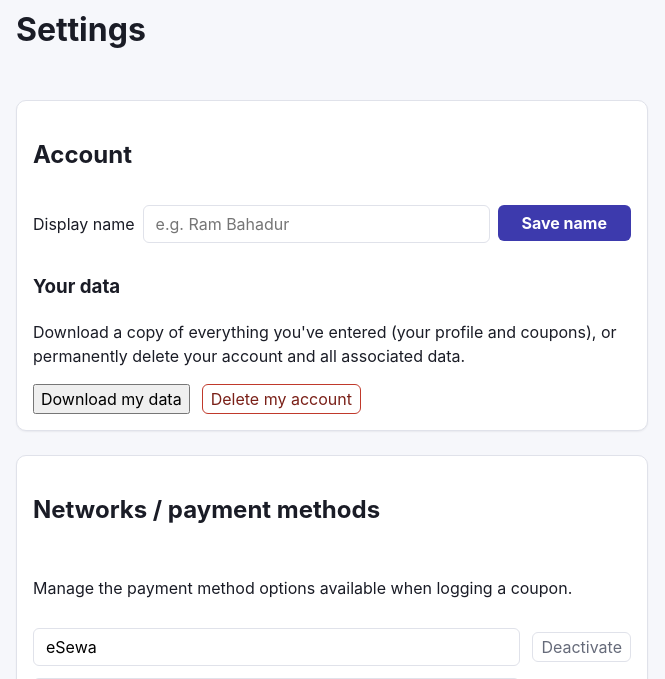
Scenario: Settings page › saves a display name via the Account section
Expected: the 1st field showing "eSewa" is shown, [33,628,520,666]
In the field labelled "Display name": (316, 224) [143,205,490,243], type "Ram Bahadur"
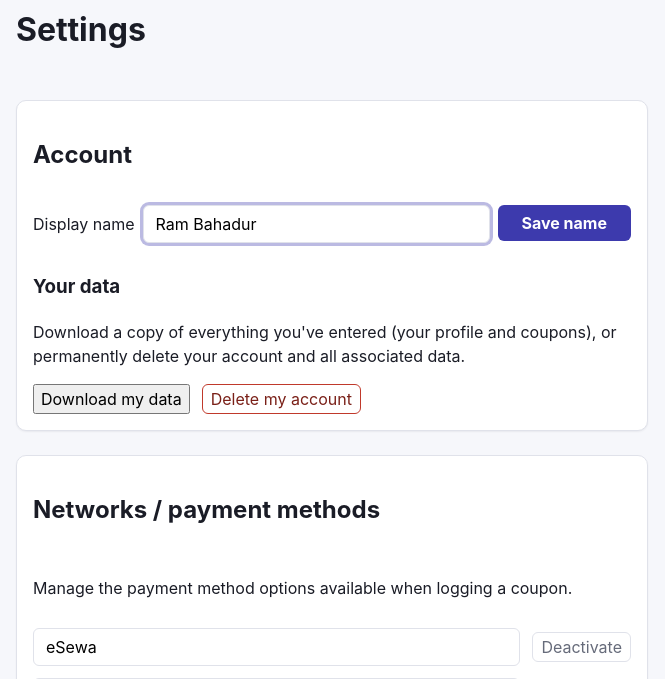
Click the button "Save name": (564, 223) [498,205,631,241]
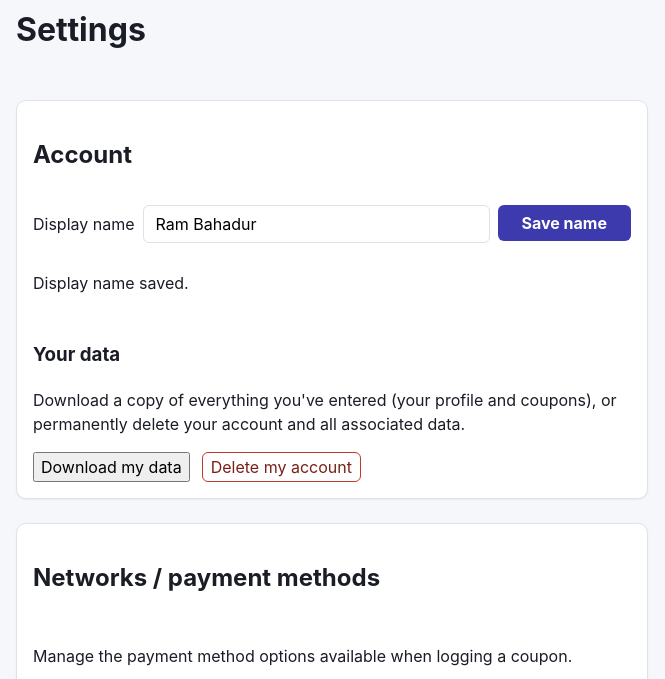
Expected: the text "Display name saved." is shown, [33,273,189,293]
